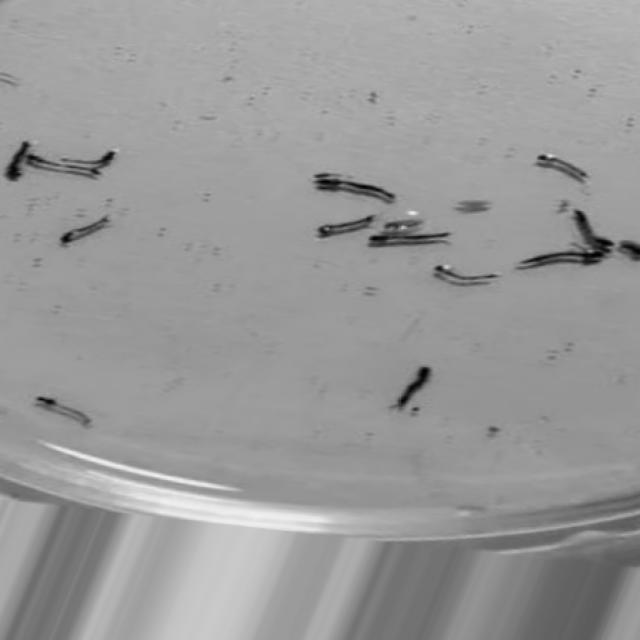larvas: (28, 150, 103, 183), (314, 174, 396, 201), (38, 392, 91, 422), (576, 208, 614, 247), (398, 366, 430, 409), (437, 260, 498, 282), (522, 252, 606, 266), (538, 154, 586, 177), (63, 218, 109, 242), (319, 216, 374, 236), (370, 232, 448, 245), (62, 149, 116, 164), (8, 142, 26, 177), (375, 225, 380, 226)
